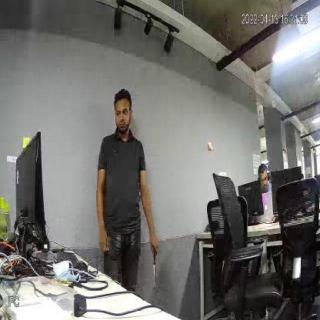knife: (150, 249, 162, 290)
